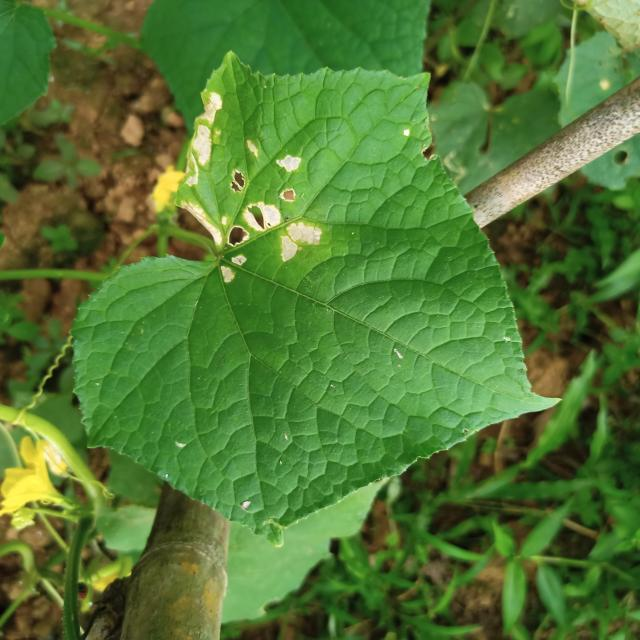disease_cucumber: (182, 92, 323, 285)
